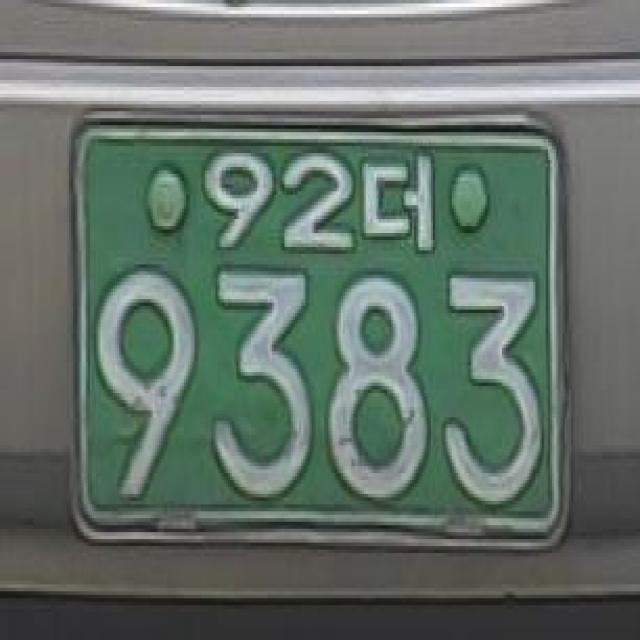illegal_plate: (65, 95, 588, 579)
